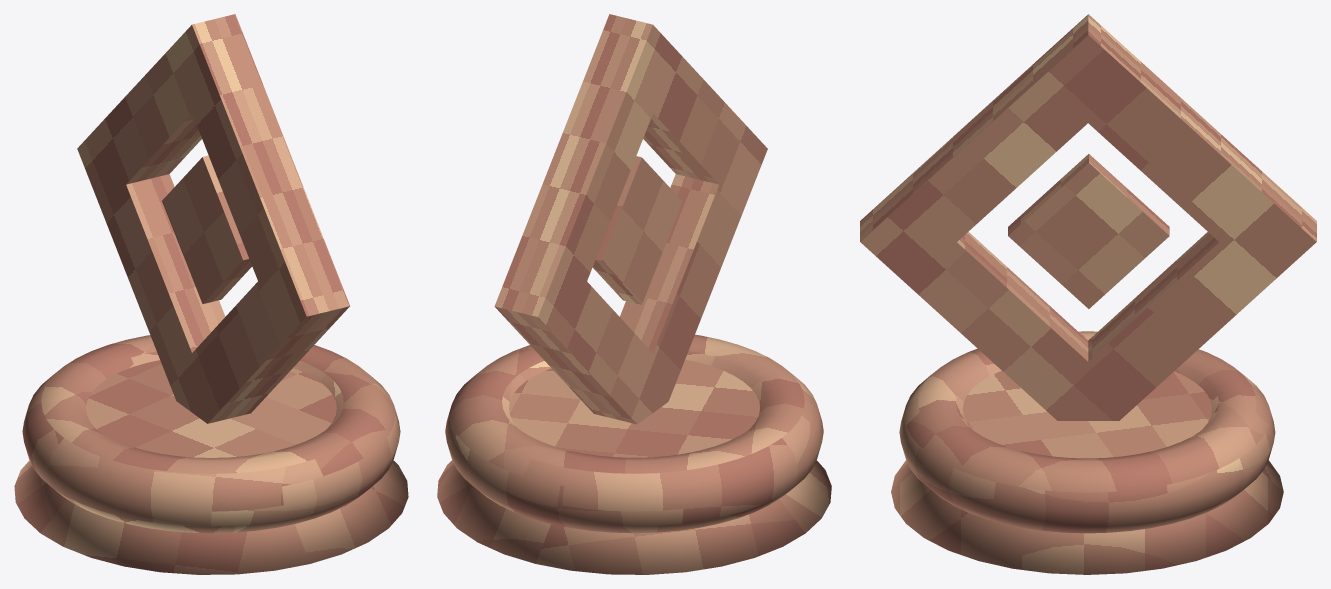
Rendered from image_gd.obj.
3 views of the same model, side by side, from view 1: azimuth 30°, elevation 25°; view 2: azimuth 150°, elevation 25°; view 3: azimuth 270°, elevation 25° (orthographic).
Visible parts, largest first — view 1: Cube_Cube.003; view 2: Cube_Cube.003; view 3: Cube_Cube.003.
Boxes of the visible parts, box(x1,y1,x2,y2) form: Cube_Cube.003: box(14, 14, 408, 574); Cube_Cube.003: box(437, 14, 831, 574); Cube_Cube.003: box(860, 14, 1316, 574).
Size of what is drawn, in the model's own units: 1.38 by 1.82 by 1.61.
